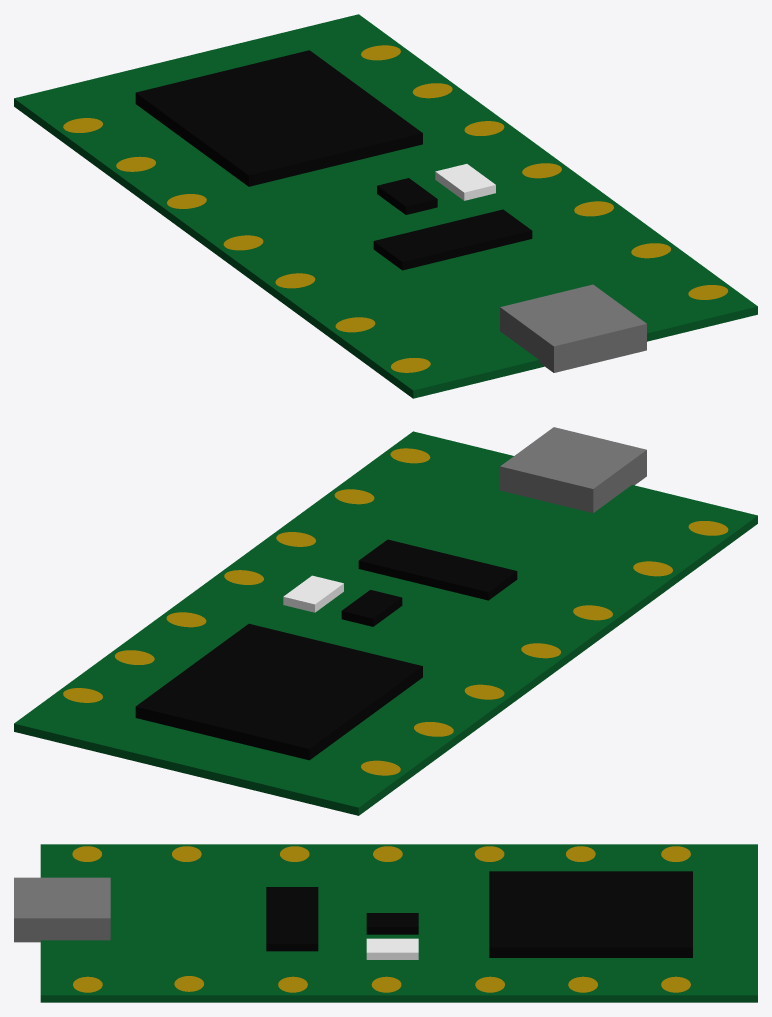
Rendered from chip.glb.
3 views of the same model, one above another, from view 1: azimuth 30°, elevation 25°; view 2: azimuth 150°, elevation 25°; view 3: azimuth 270°, elevation 25° (orthographic). The views are drawn at different scales.
Visible parts, largest first — view 1: Box (×6); view 2: Box (×6); view 3: Box (×6), Circle (×14).
Boxes of the visible parts, x1=… form: Box (×6): x1=14, y1=14, x2=757, y2=398; Box (×6): x1=14, y1=427, x2=757, y2=815; Box (×6): x1=14, y1=844, x2=757, y2=1002; Circle (×14): x1=72, y1=846, x2=690, y2=992.
Bounding box in the file's own units: 3.7 × 0.3329 × 7.7.
